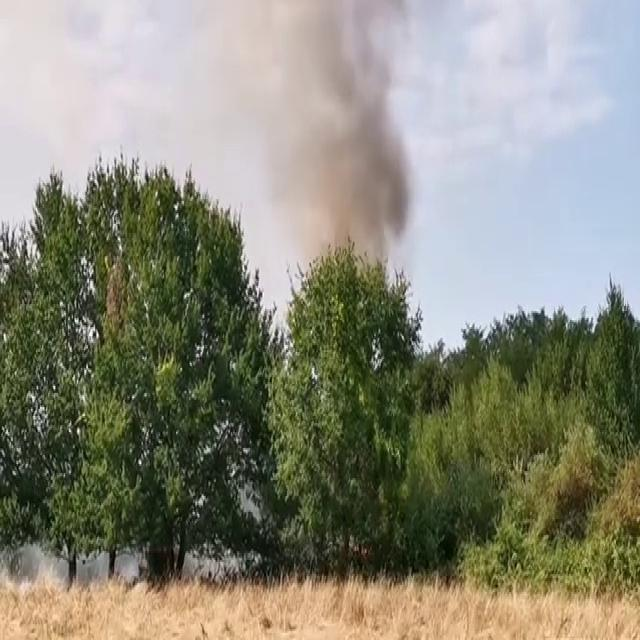Smoke: (246, 0, 416, 302)
